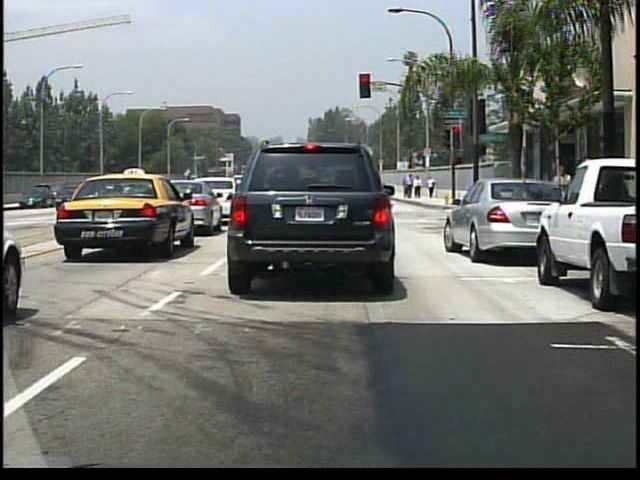person: (550, 165, 573, 224), (426, 175, 437, 201), (404, 174, 413, 200), (413, 175, 422, 201)
